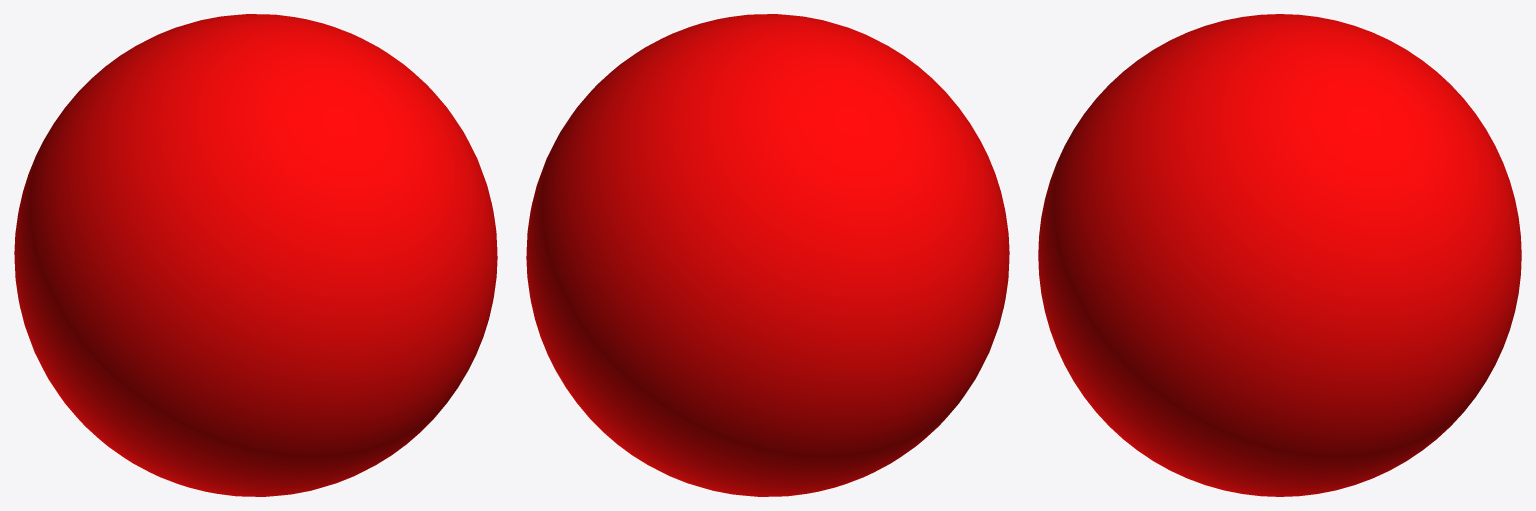
The model's file is ball-dotted-ff0000.glb.
The picture shows the model from 3 angles, left to right: view 1: azimuth 30°, elevation 25°; view 2: azimuth 150°, elevation 25°; view 3: azimuth 270°, elevation 25°; orthographic projection.
Parts seen in each view (by area): view 1: ball; view 2: ball; view 3: ball.
Part boxes in pixels (<box>): ball: <box>14,14,497,496</box>; ball: <box>526,14,1009,496</box>; ball: <box>1038,14,1521,496</box>.
Bounding box in the file's own units: 0.0655 × 0.0655 × 0.0655.
